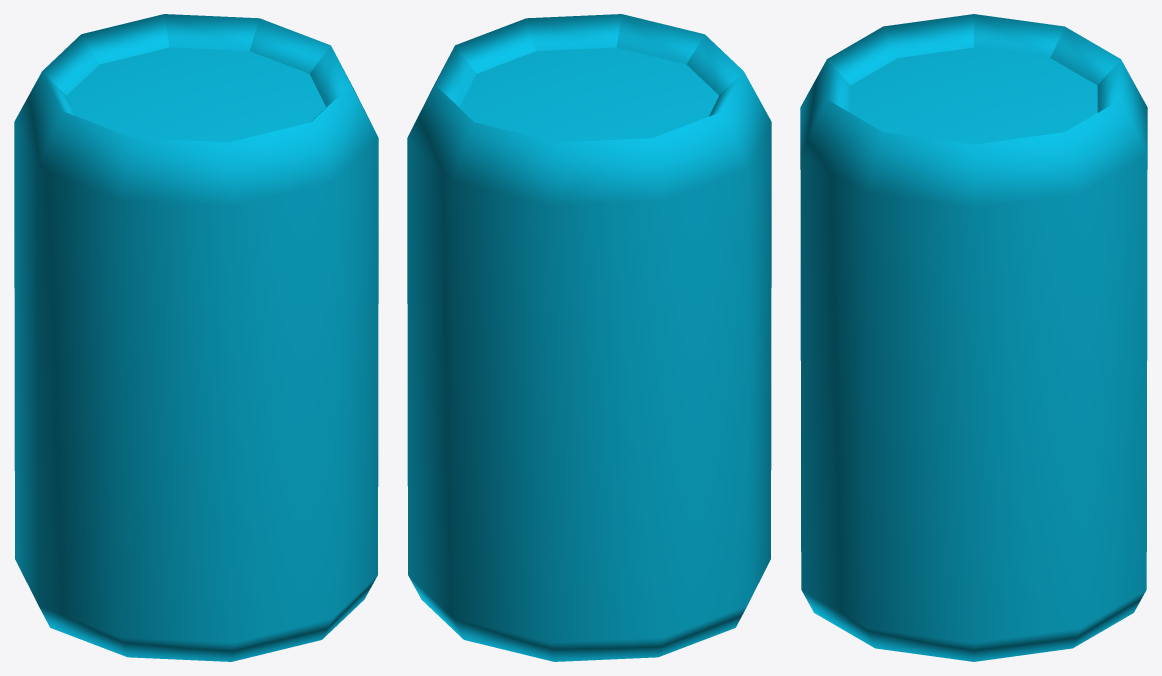
The model's file is Soda_Can_01_Lod1.fbx.
The picture shows the model from 3 angles, left to right: view 1: azimuth 30°, elevation 25°; view 2: azimuth 150°, elevation 25°; view 3: azimuth 270°, elevation 25°; orthographic projection.
Parts seen in each view (by area): view 1: Soda_Can_01_Lod1; view 2: Soda_Can_01_Lod1; view 3: Soda_Can_01_Lod1.
Boxes of the visible parts, x1,y1,x2,y2 form: Soda_Can_01_Lod1: (14, 14, 378, 661); Soda_Can_01_Lod1: (407, 14, 771, 661); Soda_Can_01_Lod1: (800, 14, 1147, 661).
Size of the model in its own units: 8.93 by 13.81 by 8.49.
